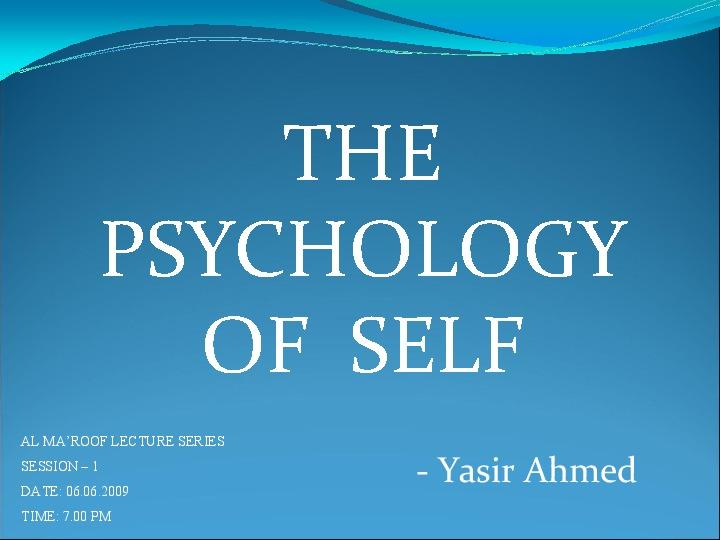title: (80, 90, 643, 399)
